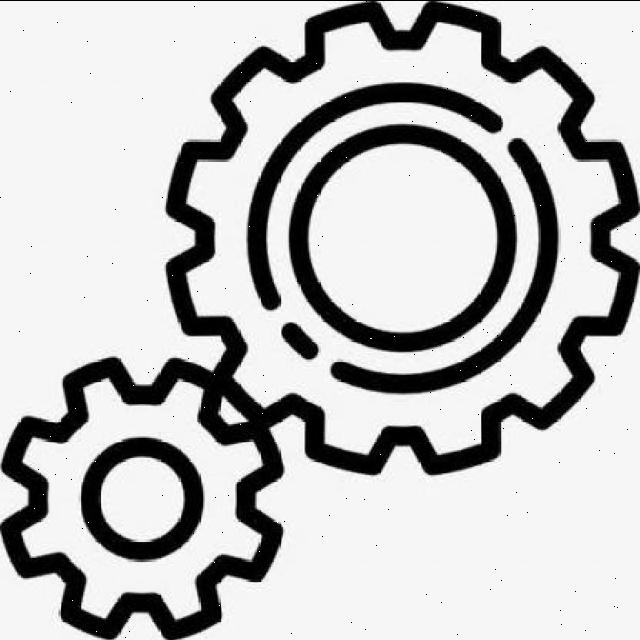Gear: (164, 0, 638, 476), (2, 356, 286, 640)
